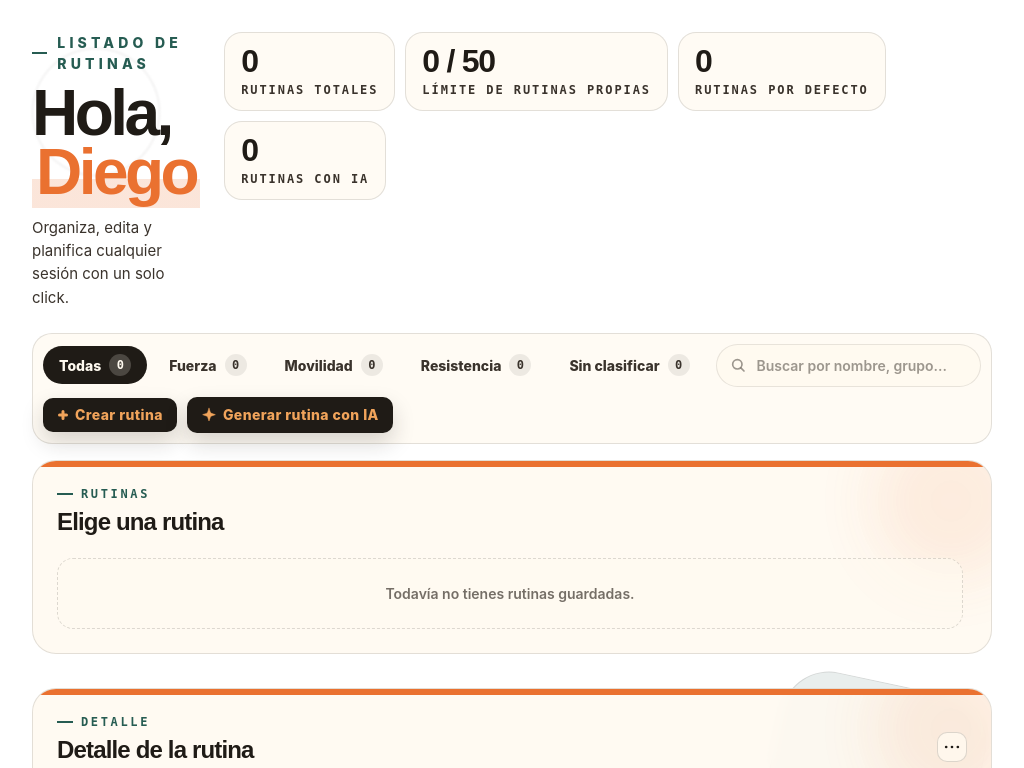
UserRoutinesPage › abre el modal de creación con IA
The image size is (1024, 768).
Click the button "Generar rutina con IA": (290, 415) [187,397,393,433]
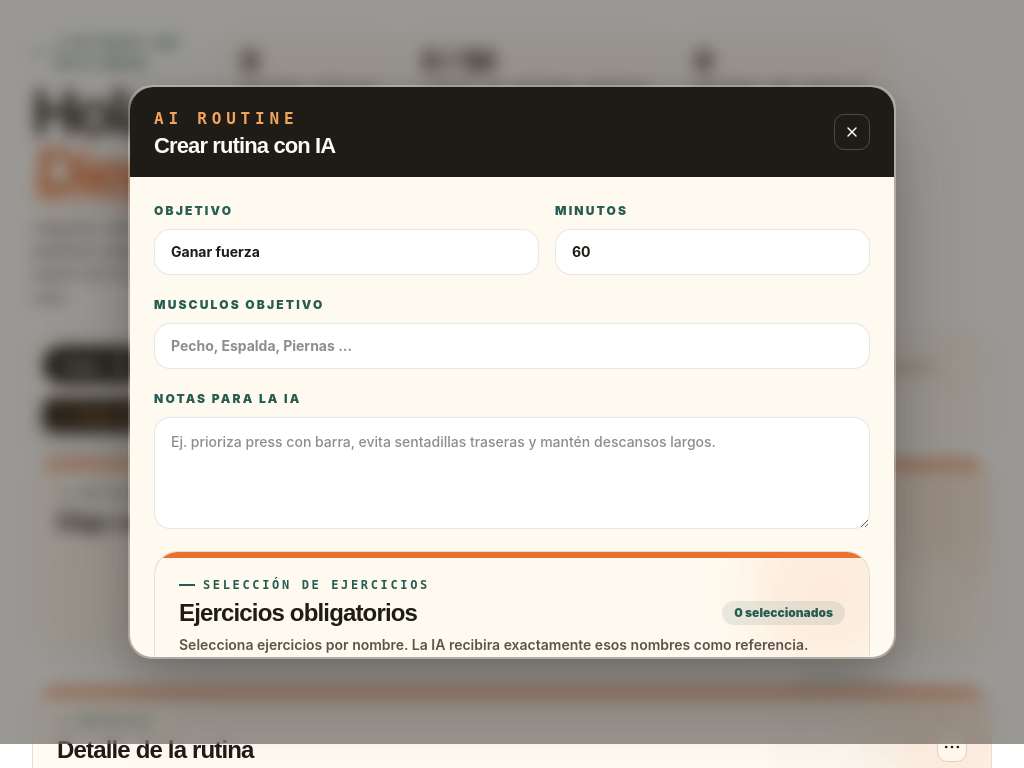
Now the heading "Crear rutina con IA" is shown, box [154,133,335,158]
Now the field labelled "Objetivo" is shown, box [154,229,539,275]
